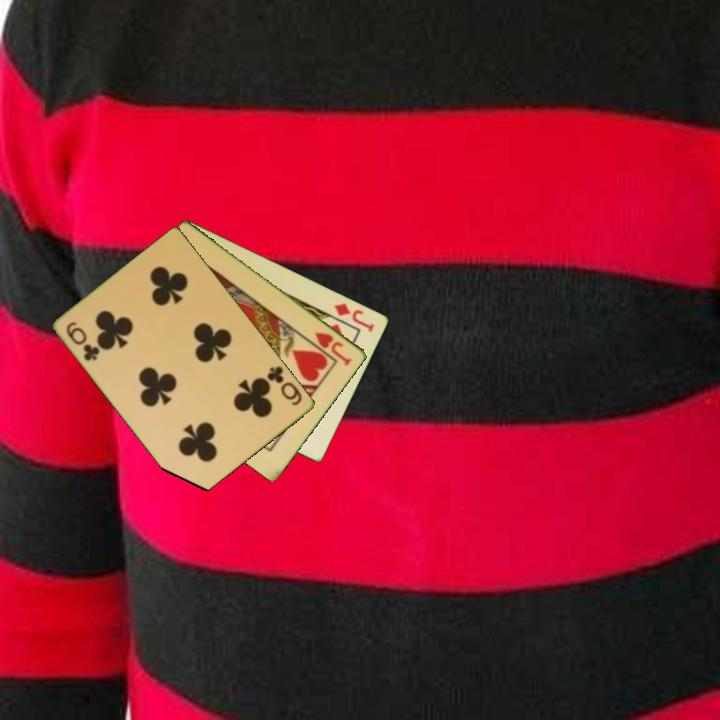6c: (264, 362, 305, 409), (63, 318, 103, 364)
Jd: (331, 299, 378, 335)
Jh: (311, 328, 355, 369)
